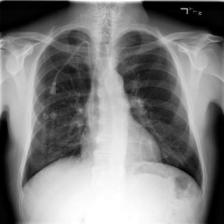normal: (18, 24, 206, 192)
